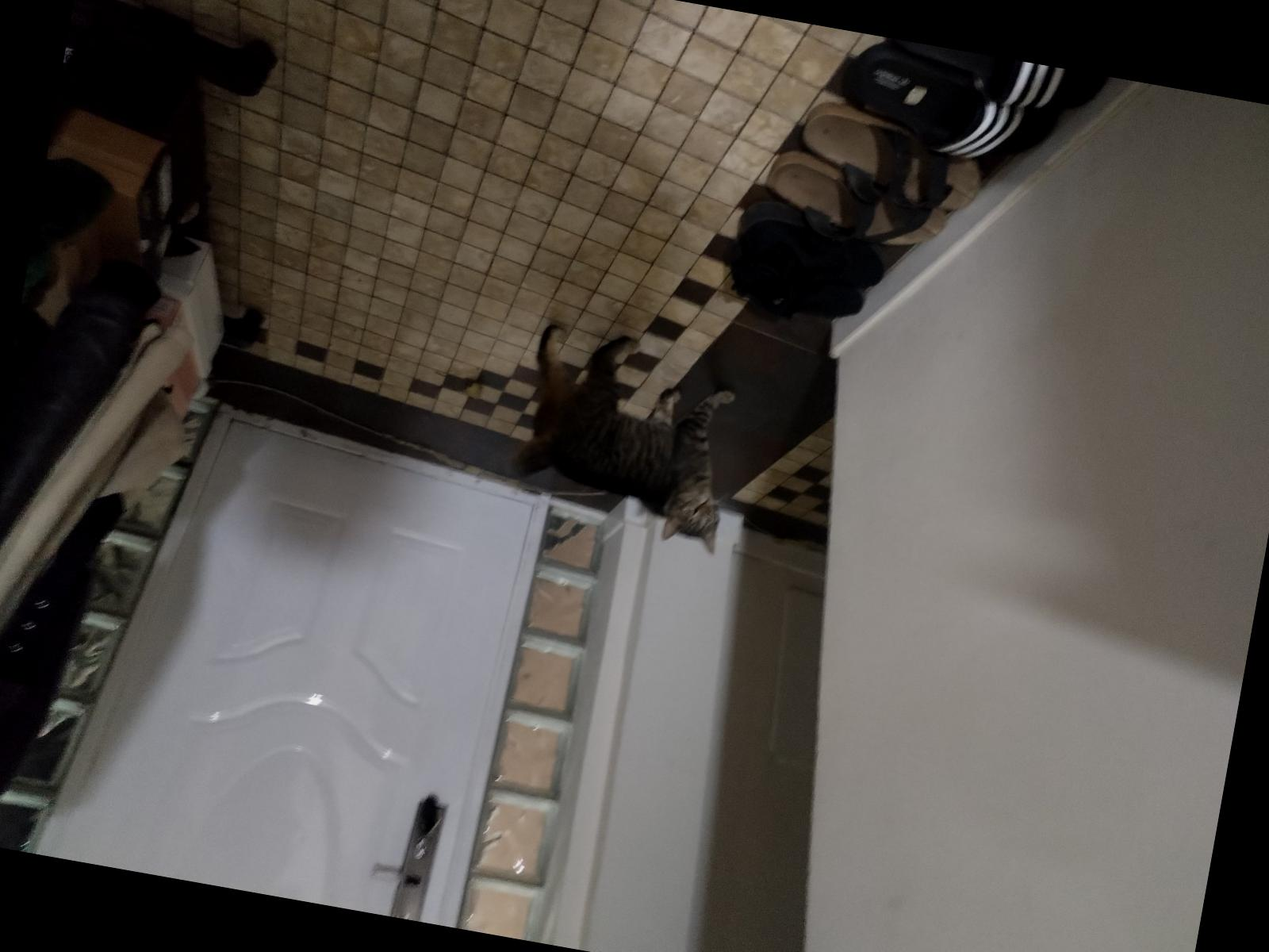macka: (500, 319, 748, 555)
